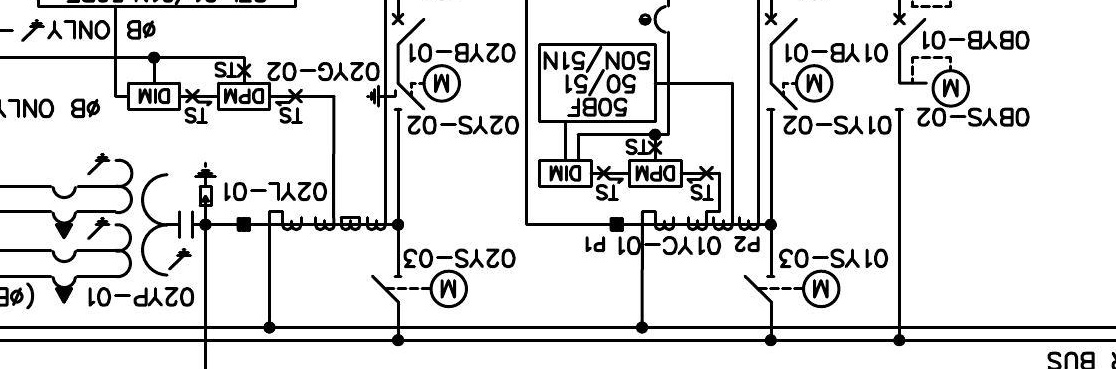115_1way_ds_w_motor: (894, 55, 971, 112), (370, 269, 469, 310), (743, 269, 842, 309), (766, 62, 835, 111)
115_3ways_ds_w_motor: (365, 63, 462, 112)
115_breaker: (892, 12, 927, 47), (764, 12, 799, 47), (391, 13, 426, 46)
115_cvt_1p: (49, 152, 195, 305)
115_la: (194, 161, 218, 207)
DIM: (537, 159, 593, 188), (127, 82, 181, 111)
DPM: (627, 158, 684, 188), (217, 82, 271, 111)
